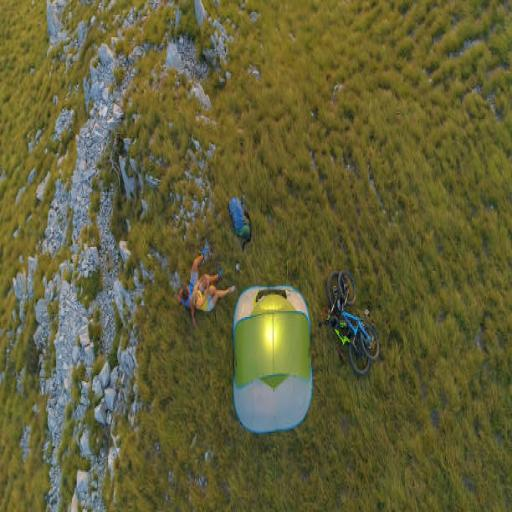tent: (232, 281, 315, 435)
